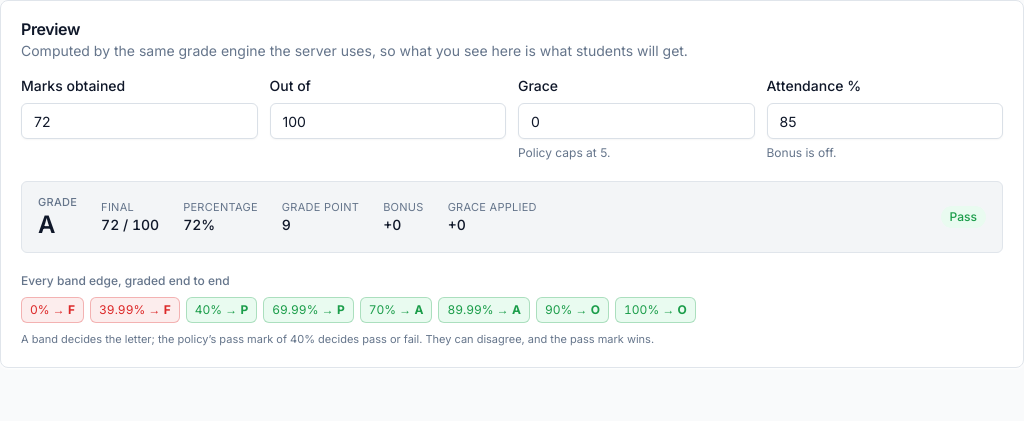
Test case: GradeBandPreview › warns when the cap discards part of the grace awarded
Replace the text in the number field labelled "Marks obtained" with "100". click: (139, 121)
box: [21,103,258,139]
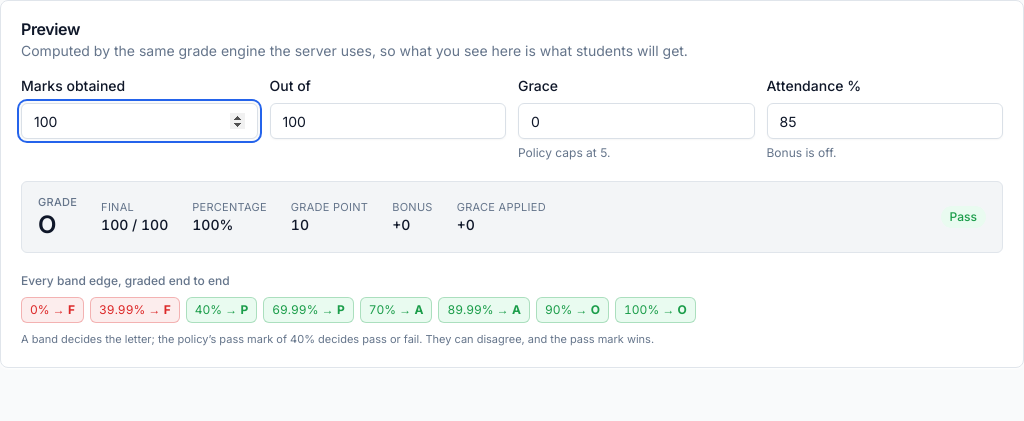
Replace the text in the number field labelled "Grace" with "5". click: (636, 121)
box: [518,103,754,139]
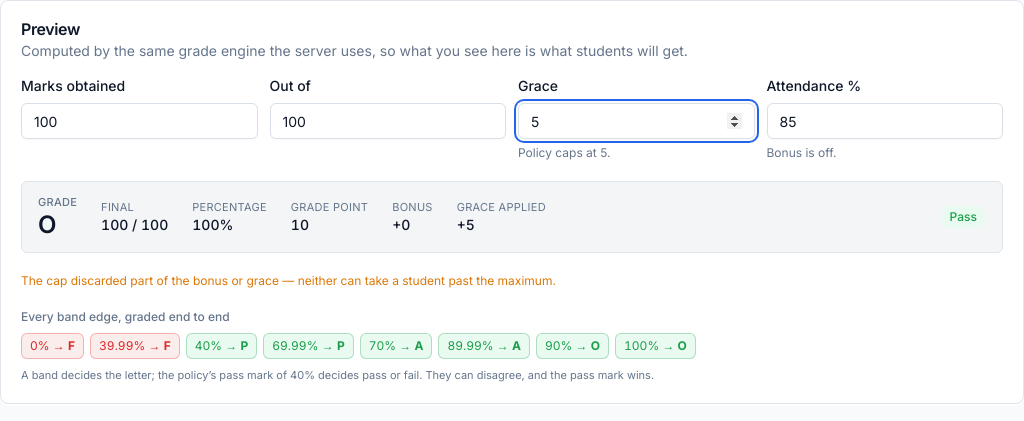
expect the text "cap discarded part of the bonus or grace" is shown: met, box [21,273,556,288]
